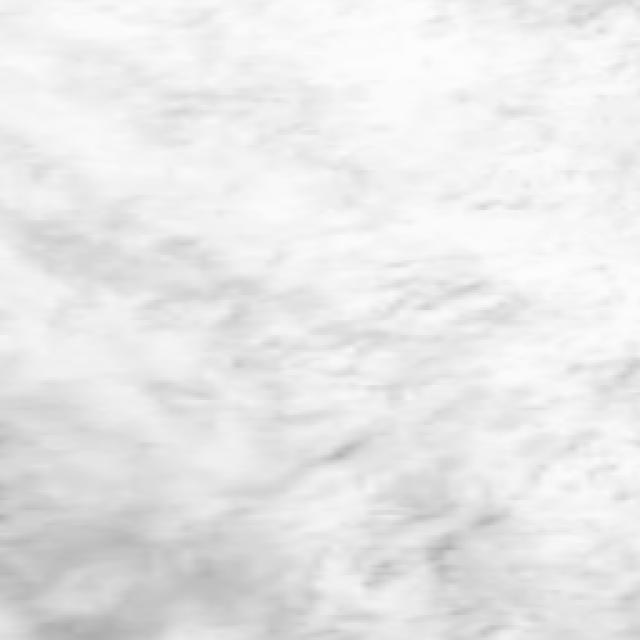CB: (314, 41, 640, 247), (501, 273, 640, 625), (15, 320, 196, 536), (119, 134, 307, 266)
